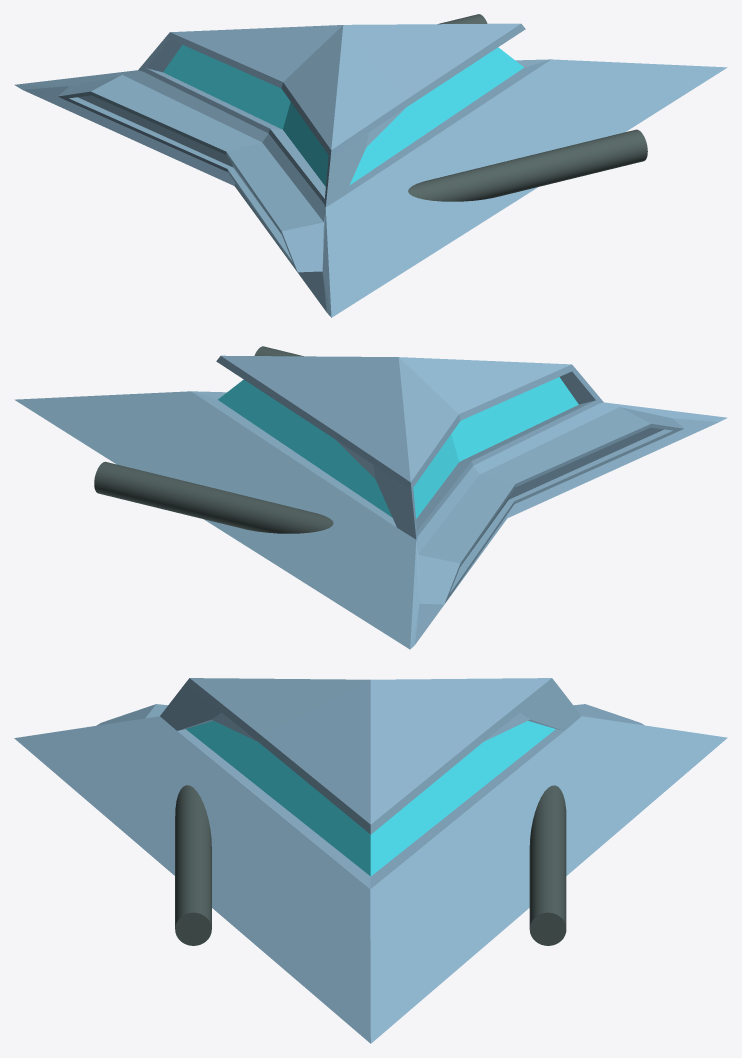
The model's file is drone_vulkan_rt.obj.
3 views of the same model, one above another, from view 1: azimuth 30°, elevation 25°; view 2: azimuth 150°, elevation 25°; view 3: azimuth 270°, elevation 25° (orthographic). The views are drawn at different scales.
Visible parts, largest first — view 1: Drone_Model_Plane; view 2: Drone_Model_Plane; view 3: Drone_Model_Plane.
Part boxes in pixels (left/top/right/bottom): Drone_Model_Plane: left=14, top=14, right=727, bottom=317; Drone_Model_Plane: left=14, top=346, right=727, bottom=649; Drone_Model_Plane: left=14, top=678, right=727, bottom=1043.
Size of the model in its own units: 3.05 by 0.7153 by 3.02.
